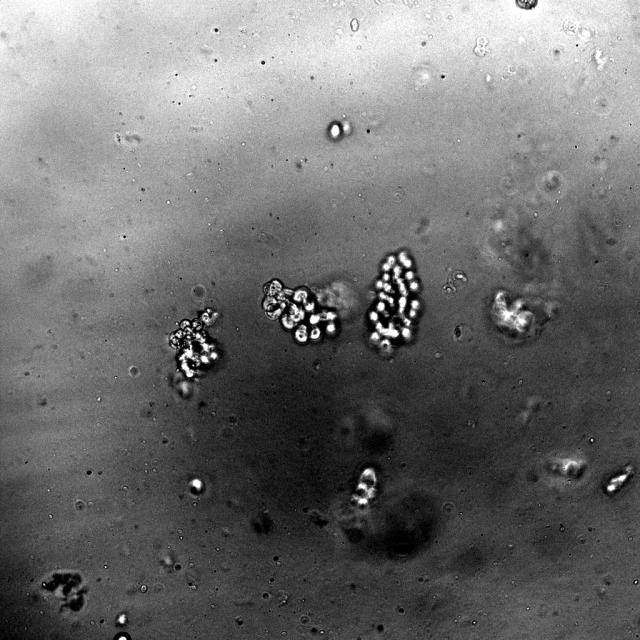organoid: (261, 279, 361, 345), (365, 248, 422, 356), (168, 307, 220, 399), (489, 289, 555, 341), (41, 570, 86, 611), (349, 467, 377, 524), (543, 457, 587, 482), (602, 462, 634, 496), (442, 269, 468, 297), (326, 120, 351, 142), (591, 49, 608, 71), (473, 35, 488, 56), (188, 477, 205, 495), (562, 18, 578, 33), (515, 0, 538, 9), (350, 18, 359, 32)
